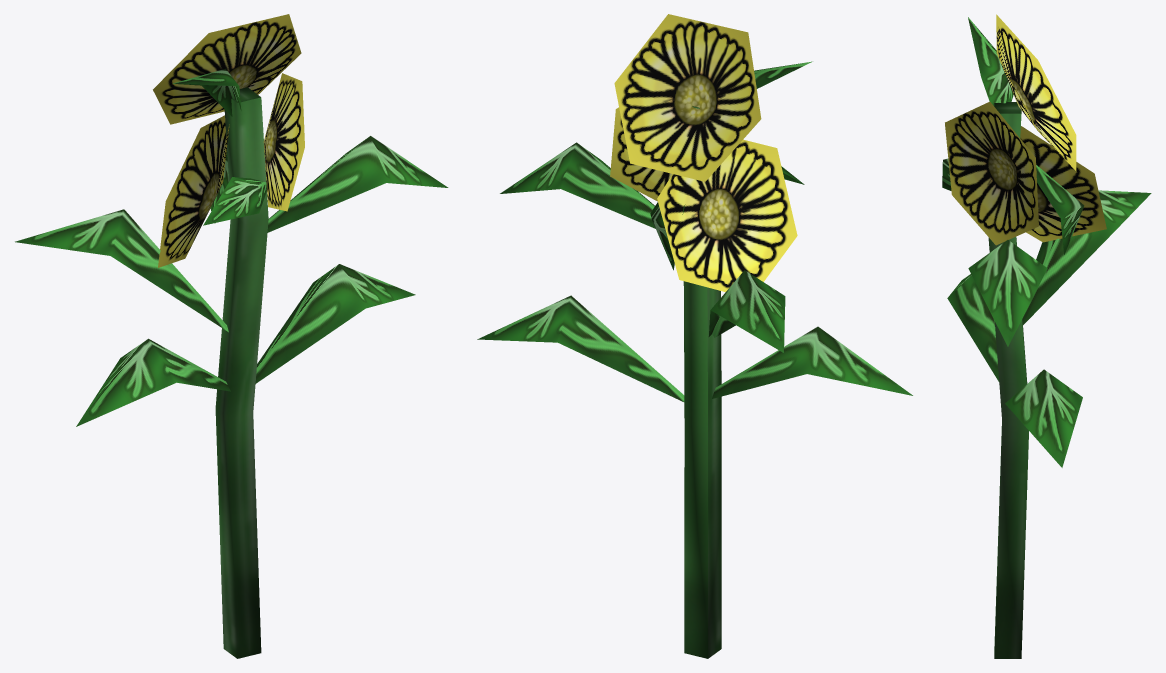
File: Flower1.fbx
The picture shows the model from 3 angles, left to right: view 1: azimuth 30°, elevation 25°; view 2: azimuth 150°, elevation 25°; view 3: azimuth 270°, elevation 25°; orthographic projection.
Parts seen in each view (by area): view 1: Leaves_and_Stalk, Flowers; view 2: Leaves_and_Stalk, Flowers; view 3: Leaves_and_Stalk, Flowers.
Part boxes in pixels (bbox=[...]): Leaves_and_Stalk: bbox=[15, 68, 448, 658]; Flowers: bbox=[153, 14, 304, 267]; Leaves_and_Stalk: bbox=[477, 61, 912, 658]; Flowers: bbox=[610, 14, 797, 291]; Leaves_and_Stalk: bbox=[942, 17, 1151, 658]; Flowers: bbox=[945, 14, 1106, 245].
Size of the model in its own units: 1.49 by 2.27 by 0.6965.
